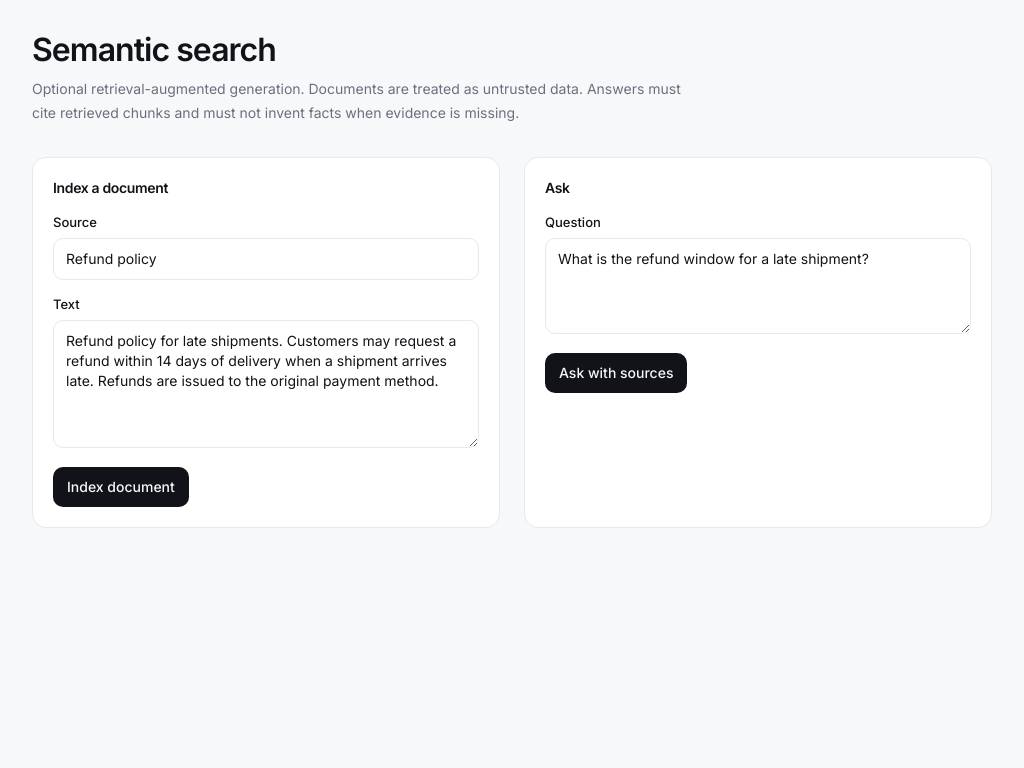
Test: RagPage › indexes a document and asks a grounded question
This screenshot has width=1024, height=768.
What coordinates should you click on to do the following:
click the button "Index document"
I would click on:
 (121, 487)
Its box is [53,467,189,507].
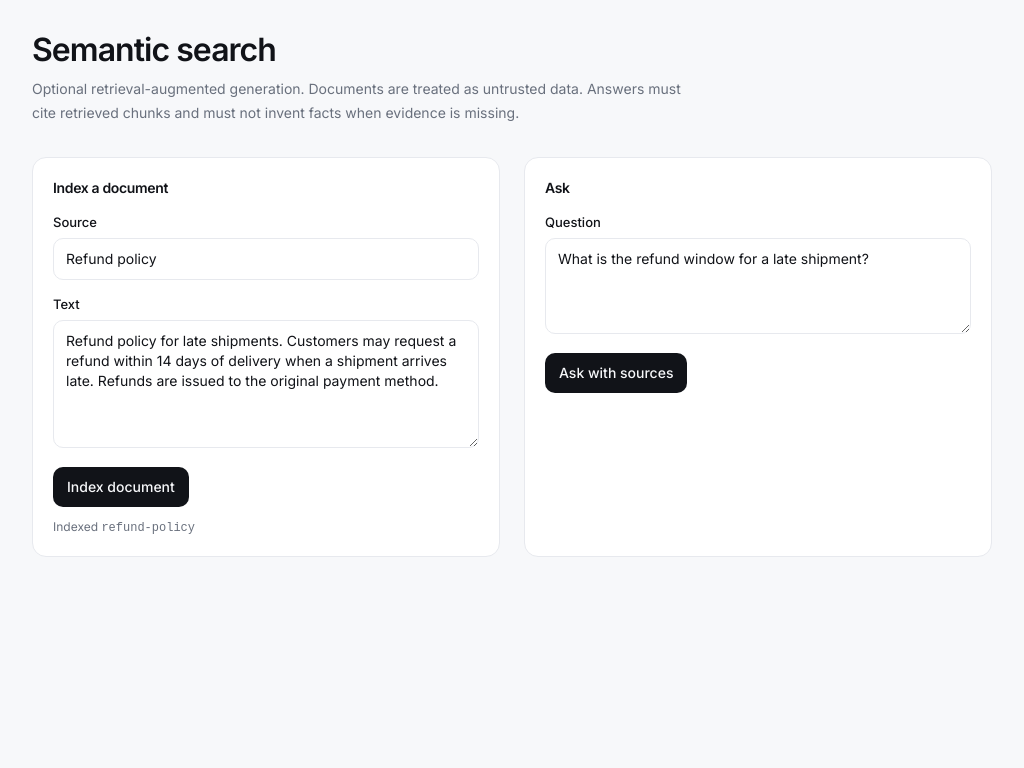
Check: the text "Indexed refund-policy" is shown, box [53,519,195,535]
What coordinates should you click on to do the following:
click the button "Ask with sources"
I would click on:
 (616, 373)
Its box is [545,353,688,393].
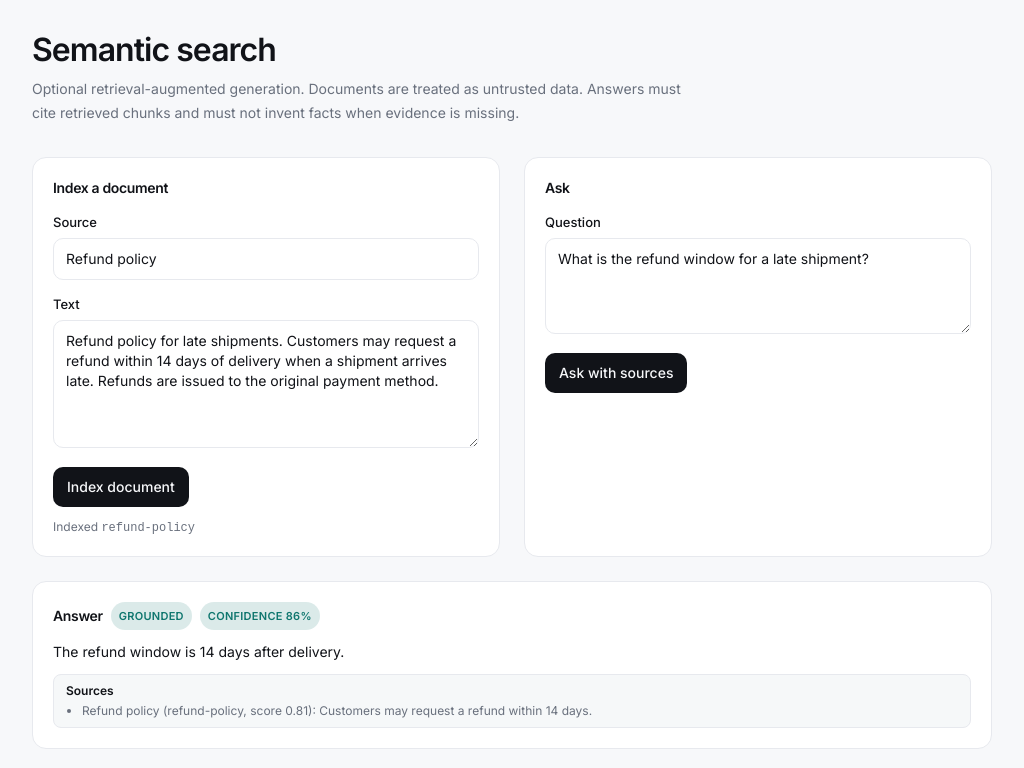
Check: the text "The refund window is 14 days after delivery." is shown, box [53,643,344,660]
Check: the text "grounded" is shown, box [111,602,192,630]
